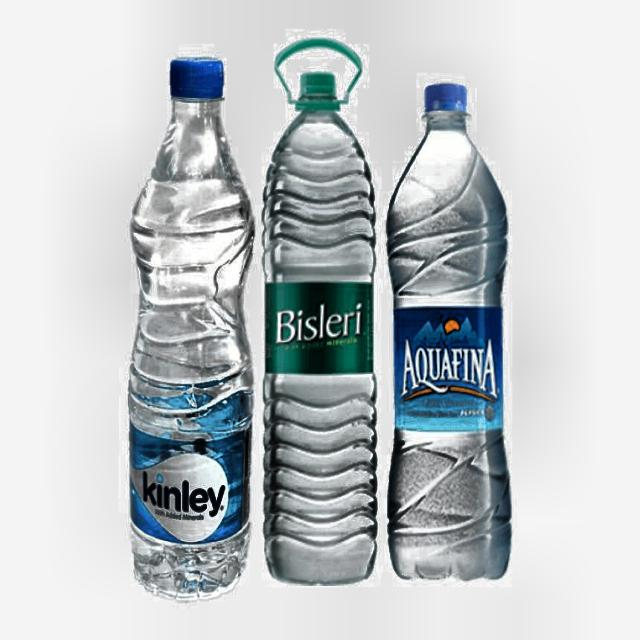Bottles: (371, 63, 528, 587), (116, 40, 253, 606), (256, 61, 382, 597)
